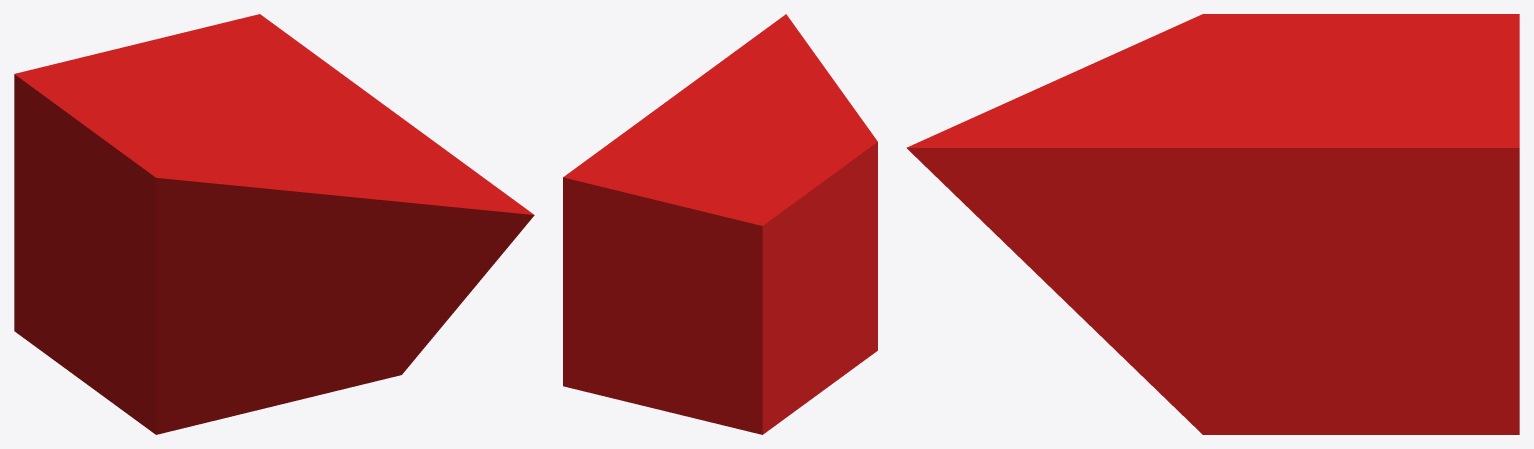
File: dash.glb
3 renders of one model, left to right at view 1: azimuth 30°, elevation 25°; view 2: azimuth 150°, elevation 25°; view 3: azimuth 270°, elevation 25°, orthographic. The views are drawn at different scales.
Visible parts, largest first — view 1: Cube; view 2: Cube; view 3: Cube.
Boxes of the visible parts, left/top/right/bottom form: Cube: left=14, top=14, right=534, bottom=434; Cube: left=563, top=14, right=877, bottom=434; Cube: left=906, top=14, right=1519, bottom=434.
Bounding box in the file's own units: 2 × 2 × 3.87.
